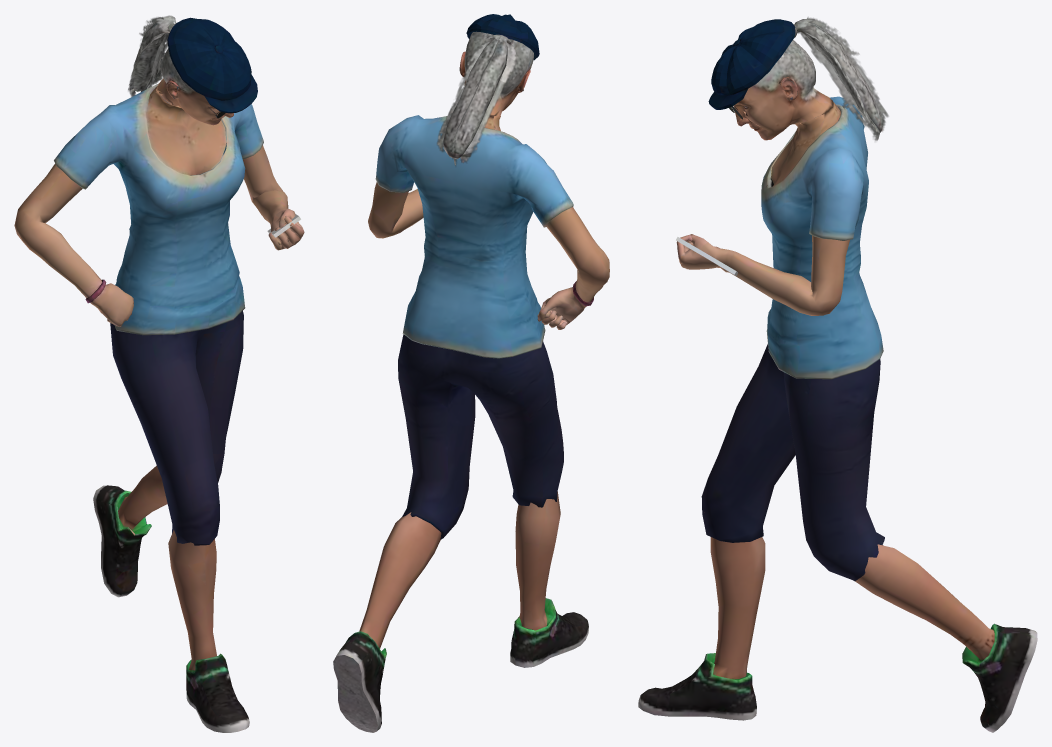
3 views of the same model, side by side, from view 1: azimuth 30°, elevation 25°; view 2: azimuth 150°, elevation 25°; view 3: azimuth 270°, elevation 25° (orthographic). The views are drawn at different scales.
Visible parts, largest first — view 1: p03476; view 2: p03476; view 3: p03476.
Boxes of the visible parts, box(x1,y1,x2,y2) form: p03476: box(14, 15, 304, 732); p03476: box(333, 14, 609, 732); p03476: box(638, 17, 1037, 732).
Bounding box in the file's own units: 0.6479 × 1.62 × 0.8371.
1 material, 1 textured.
